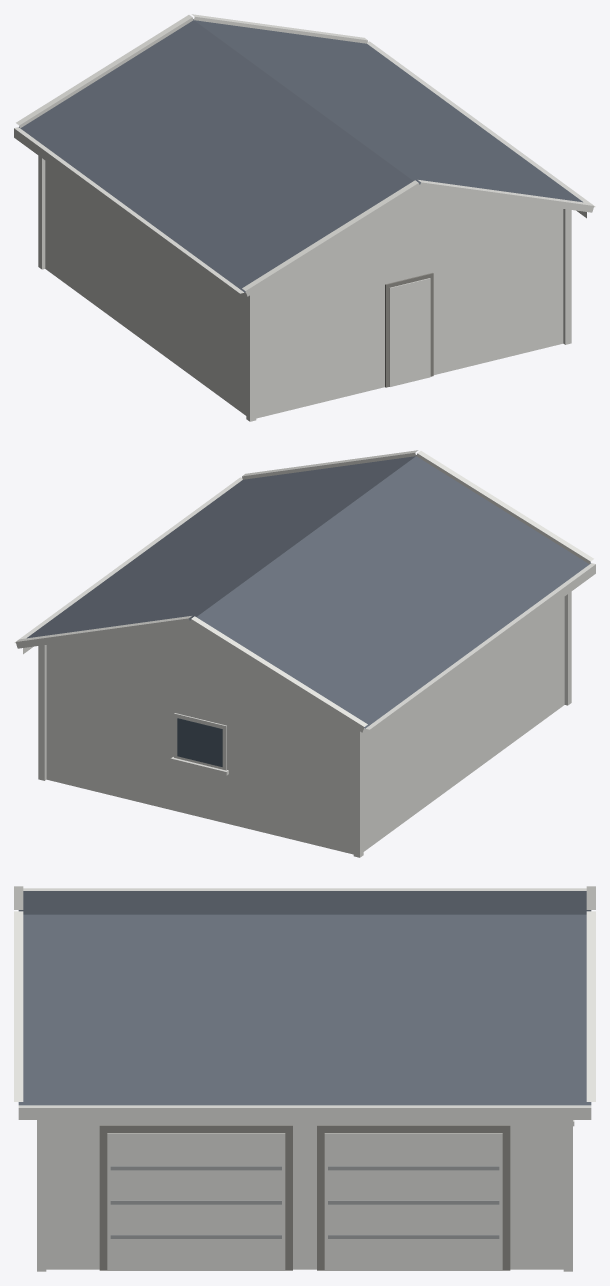
File: h28_port_cbsa_shed3.gltf
3 views of the same model, one above another, from view 1: azimuth 30°, elevation 25°; view 2: azimuth 150°, elevation 25°; view 3: azimuth 270°, elevation 25° (orthographic). The views are drawn at different scales.
Parts seen in each view (by area): view 1: h28_port_cbsa_shed3; view 2: h28_port_cbsa_shed3; view 3: h28_port_cbsa_shed3.
Part boxes in pixels (bbox=[...]): h28_port_cbsa_shed3: bbox=[14, 14, 595, 421]; h28_port_cbsa_shed3: bbox=[14, 450, 595, 857]; h28_port_cbsa_shed3: bbox=[14, 886, 595, 1271].
Bounding box in the file's own units: 7.9 × 4.39 × 8.84.
